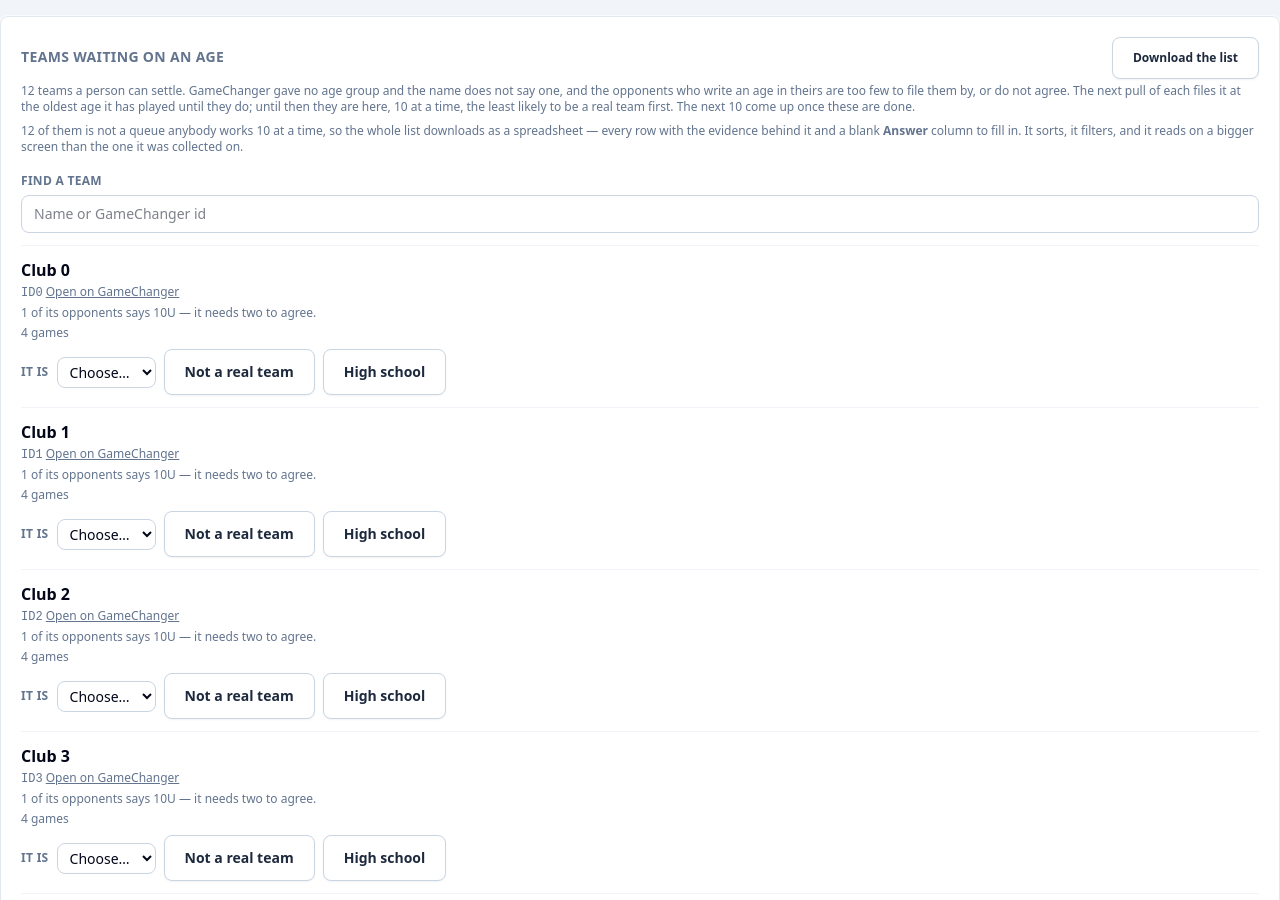
Scenario: the review card for teams waiting on an age › says so plainly when nothing answers to what was typed
Type "zzzz" into the search field labelled "Find a team" at (640, 214), box [21, 195, 1259, 233]
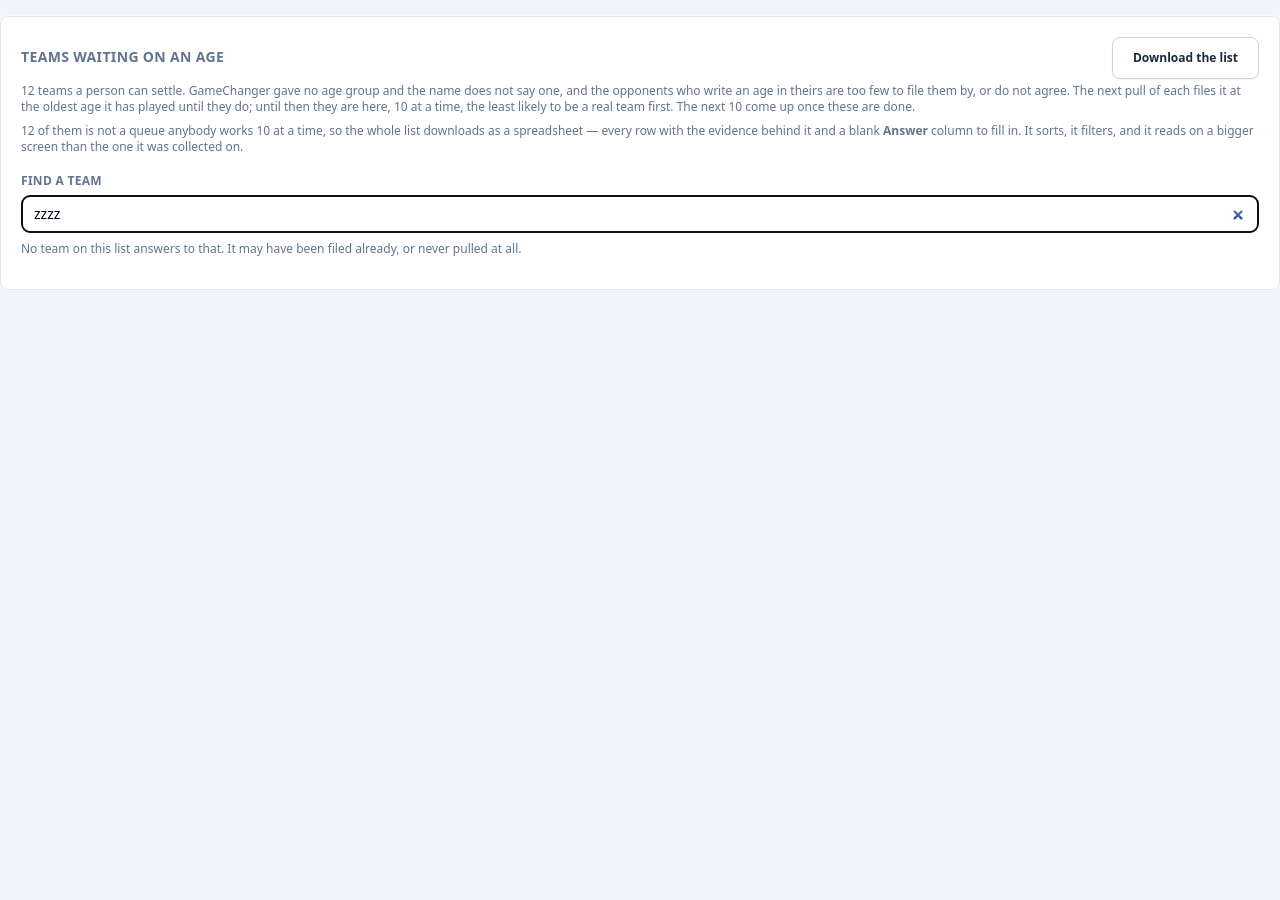
Now no list items are shown
Now the text "No team on this list answers to that" is shown, box [21, 240, 522, 257]
